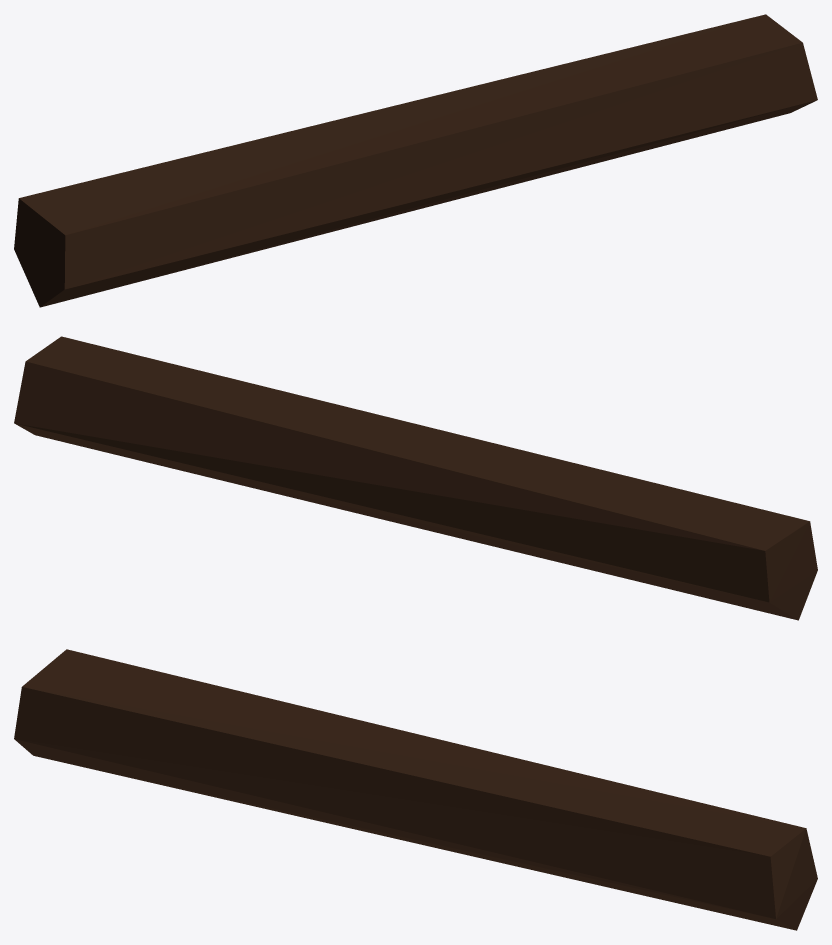
Rendered from Cave_Lair_Wood_Timber_Log_Large_01.fbx.
3 renders of one model, top to bottom at view 1: azimuth 30°, elevation 25°; view 2: azimuth 150°, elevation 25°; view 3: azimuth 330°, elevation 25°, orthographic.
Parts seen in each view (by area): view 1: Cave_Lair_Wood_Timber_Log_Large_01; view 2: Cave_Lair_Wood_Timber_Log_Large_01; view 3: Cave_Lair_Wood_Timber_Log_Large_01.
Part boxes in pixels (left/top/right/bottom): Cave_Lair_Wood_Timber_Log_Large_01: left=14, top=14, right=817, bottom=307; Cave_Lair_Wood_Timber_Log_Large_01: left=14, top=336, right=817, bottom=620; Cave_Lair_Wood_Timber_Log_Large_01: left=14, top=649, right=817, bottom=930.
Size of the model in its own units: 12.5 by 1.47 by 1.54.
